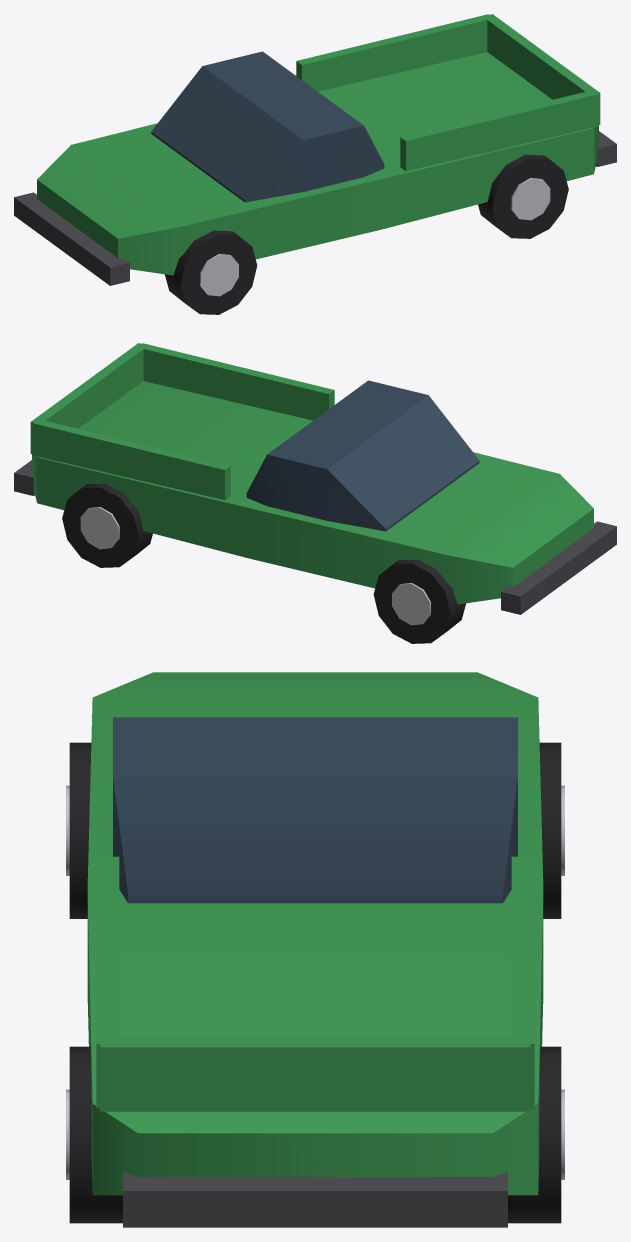
Rendered from car_pickup_green.fbx.
3 views of the same model, one above another, from view 1: azimuth 30°, elevation 25°; view 2: azimuth 150°, elevation 25°; view 3: azimuth 270°, elevation 25° (orthographic). The views are drawn at different scales.
Parts seen in each view (by area): view 1: Body, Wheel_FR, Wheel_RR; view 2: Body, Wheel_FL, Wheel_RL; view 3: Body, Wheel_RL, Wheel_RR, Wheel_FL, Wheel_FR.
Boxes of the visible parts, bbox=[...] form: Body: bbox=[14, 14, 616, 285]; Wheel_FR: bbox=[165, 230, 257, 314]; Wheel_RR: bbox=[478, 154, 568, 238]; Body: bbox=[14, 343, 616, 614]; Wheel_FL: bbox=[373, 559, 465, 643]; Wheel_RL: bbox=[62, 483, 152, 567]; Body: bbox=[87, 672, 543, 1227]; Wheel_RL: bbox=[508, 1046, 564, 1223]; Wheel_RR: bbox=[66, 1046, 122, 1223]; Wheel_FL: bbox=[539, 742, 564, 918]; Wheel_FR: bbox=[66, 742, 91, 918].
Bounding box in the file's own units: 4.62 × 1.25 × 1.97.
